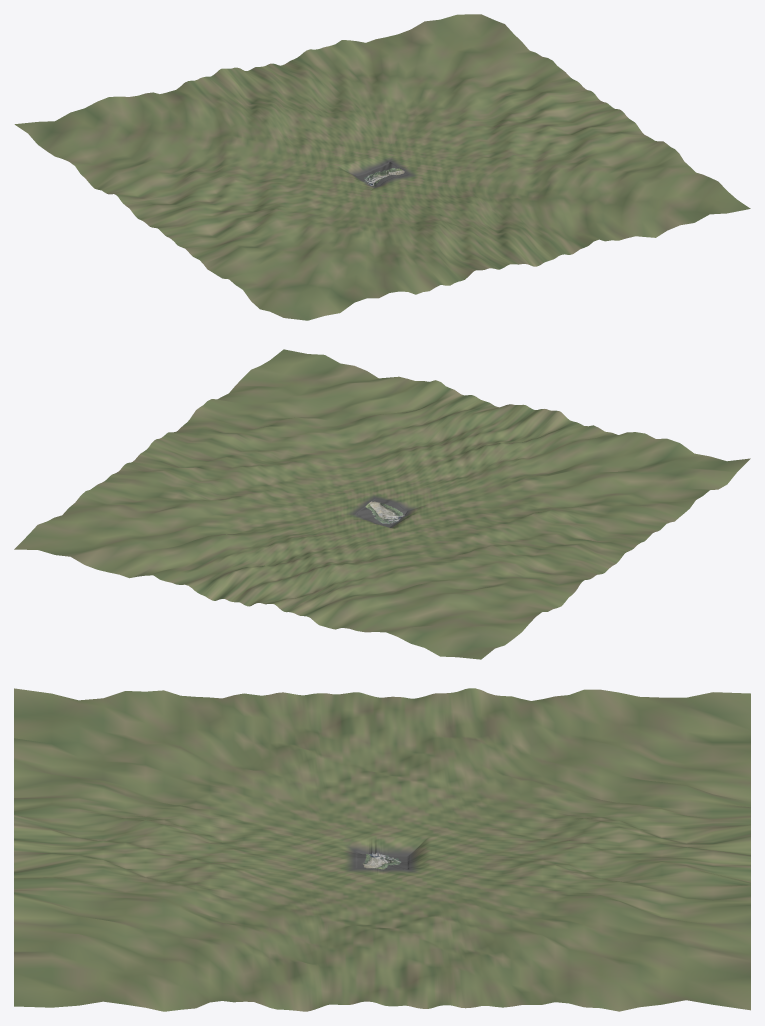
The model's file is surround.glb.
3 renders of one model, top to bottom at view 1: azimuth 30°, elevation 25°; view 2: azimuth 150°, elevation 25°; view 3: azimuth 270°, elevation 25°, orthographic. The views are drawn at different scales.
Parts seen in each view (by area): view 1: geometry_0; view 2: geometry_0; view 3: geometry_0.
Part boxes in pixels (x1,y1,x2,y2): geometry_0: (14, 14, 750, 320); geometry_0: (14, 349, 750, 659); geometry_0: (14, 688, 750, 1011).
Bounding box in the file's own units: 6000 × 227 × 6000.
